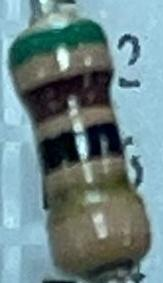Black: (38, 120, 125, 179)
Brown: (16, 62, 112, 128)
Green: (7, 17, 109, 74)
Side-Gold: (47, 171, 144, 234)
